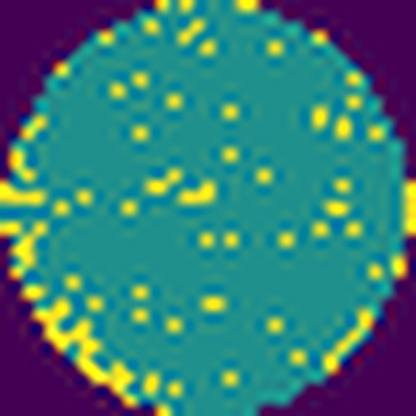Edge-Loc: (34, 296, 140, 406), (0, 218, 49, 282)
